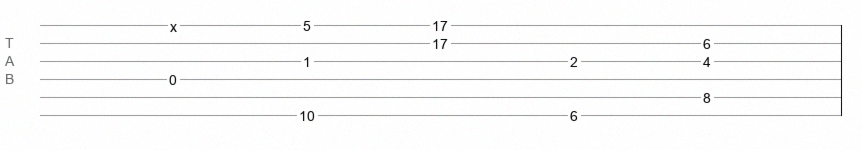0: (169, 72, 177, 82)
1: (303, 54, 311, 64)
10: (299, 108, 315, 118)
17: (432, 18, 448, 28), (432, 36, 448, 46)
2: (570, 54, 578, 64)
4: (703, 54, 711, 64)
5: (303, 18, 311, 28)
6: (570, 108, 578, 118), (703, 36, 711, 46)
8: (703, 90, 711, 100)
x: (170, 19, 177, 27)
